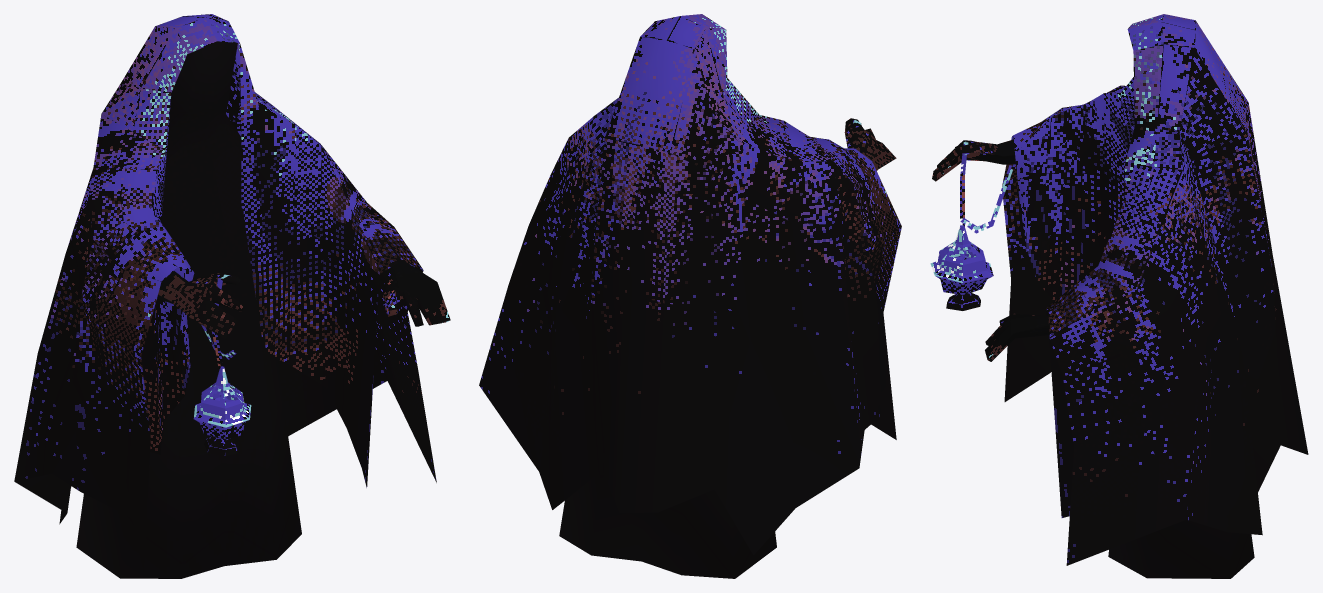
The picture shows the model from 3 angles, left to right: view 1: azimuth 30°, elevation 25°; view 2: azimuth 150°, elevation 25°; view 3: azimuth 270°, elevation 25°; orthographic projection. The views are drawn at different scales.
Parts seen in each view (by area): view 1: Cube; view 2: Cube; view 3: Cube.
Part boxes in pixels (box(x1,y1,x2,y2)): Cube: box(14, 14, 450, 578); Cube: box(479, 14, 901, 578); Cube: box(930, 14, 1308, 578).
Bounding box in the file's own units: 1.29 × 1.72 × 1.15.
Materials: 1 (1 with a texture image).
